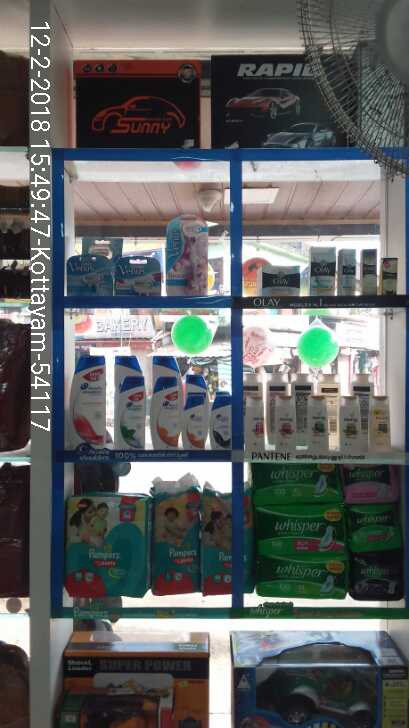venus: (166, 215, 209, 295), (68, 255, 118, 294), (118, 255, 161, 294)
